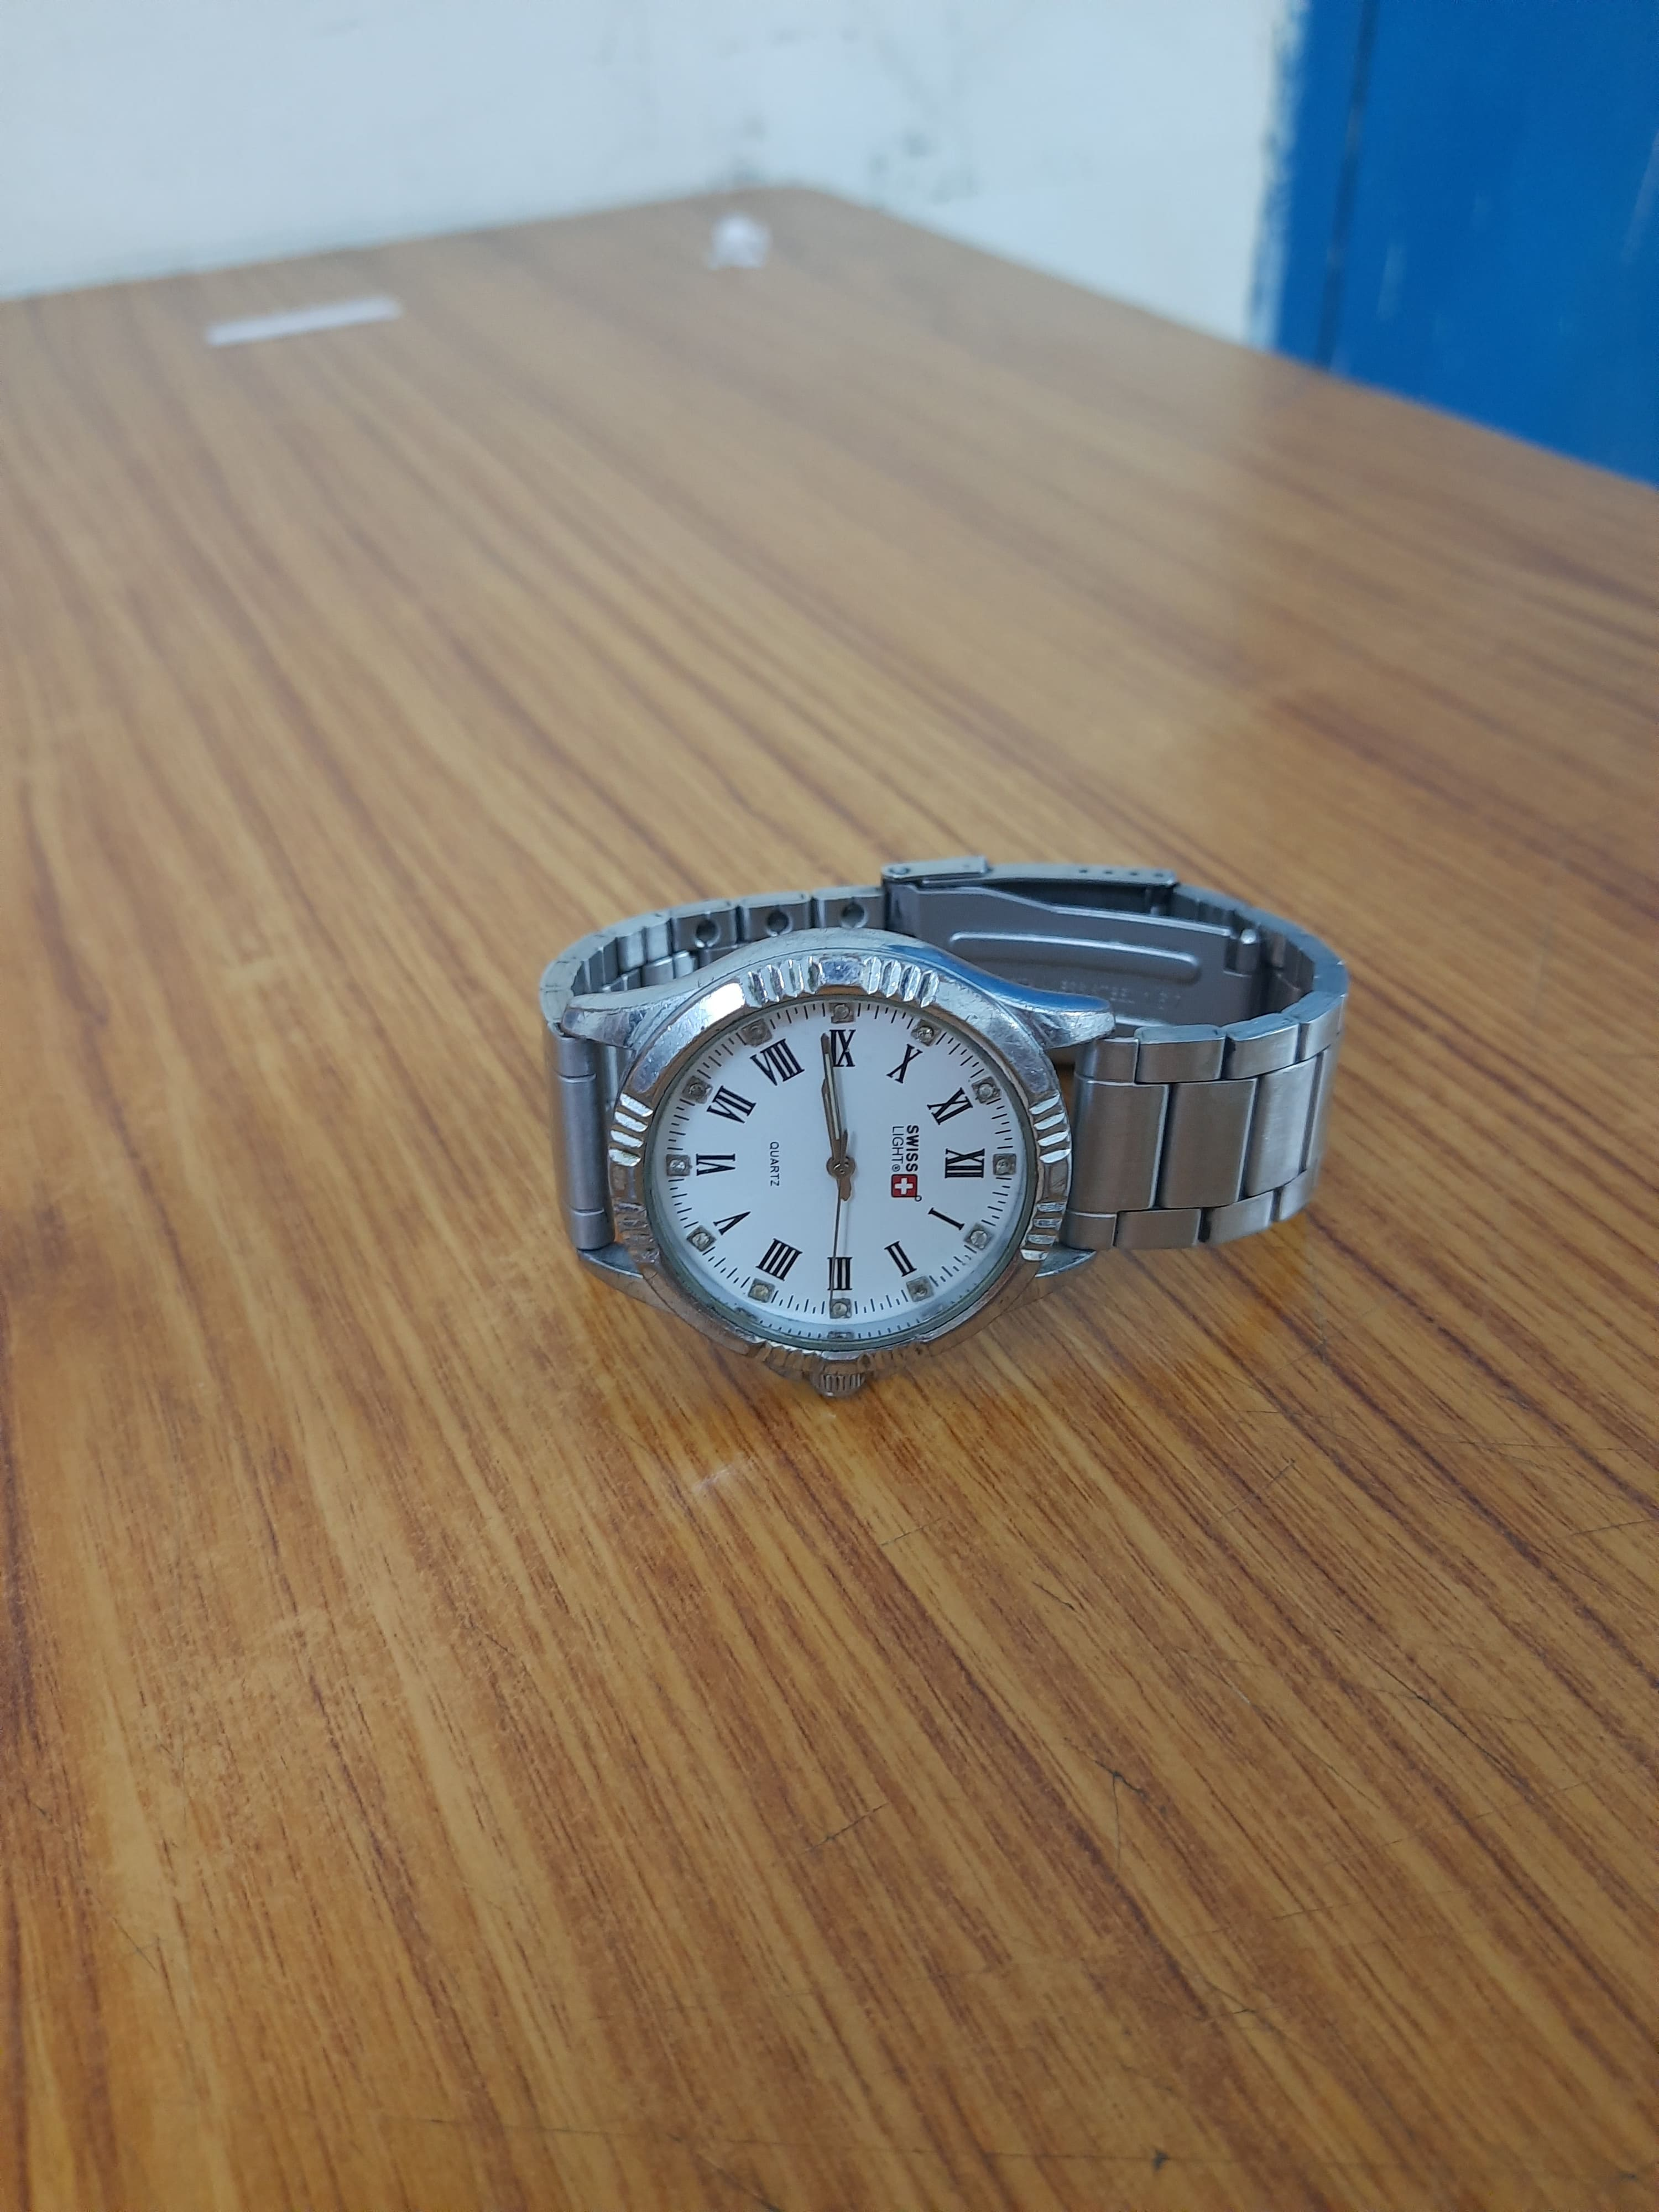Vikash's Watch: (526, 855, 1417, 1407)
